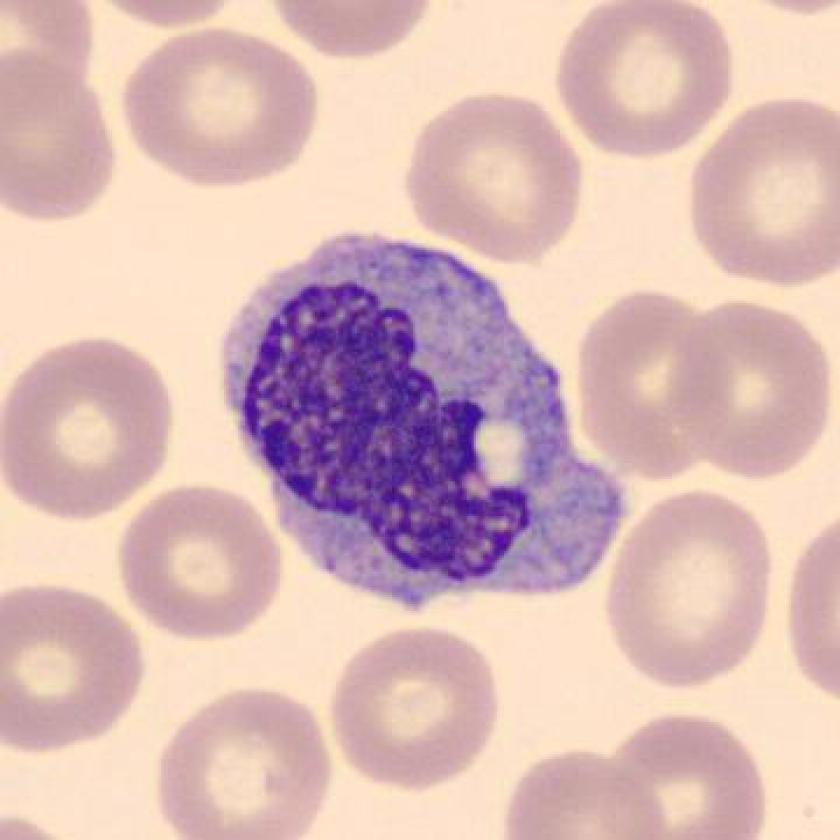monocyte: (206, 205, 643, 631)
